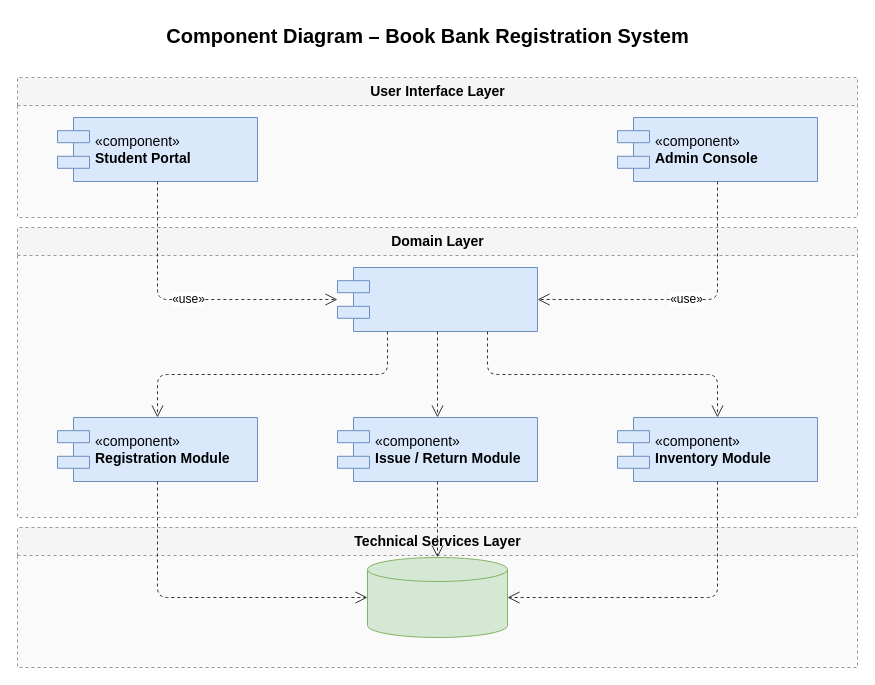
Some shapes in this 875 by 685 pixel diagram are drawn without their labels. The shapes that lost their labels are listed below. From the top down, each one's centre as x and y in pixels, then its label:
the point at 437,299: «component» Book Bank System
the point at 437,597: Book Bank DB
